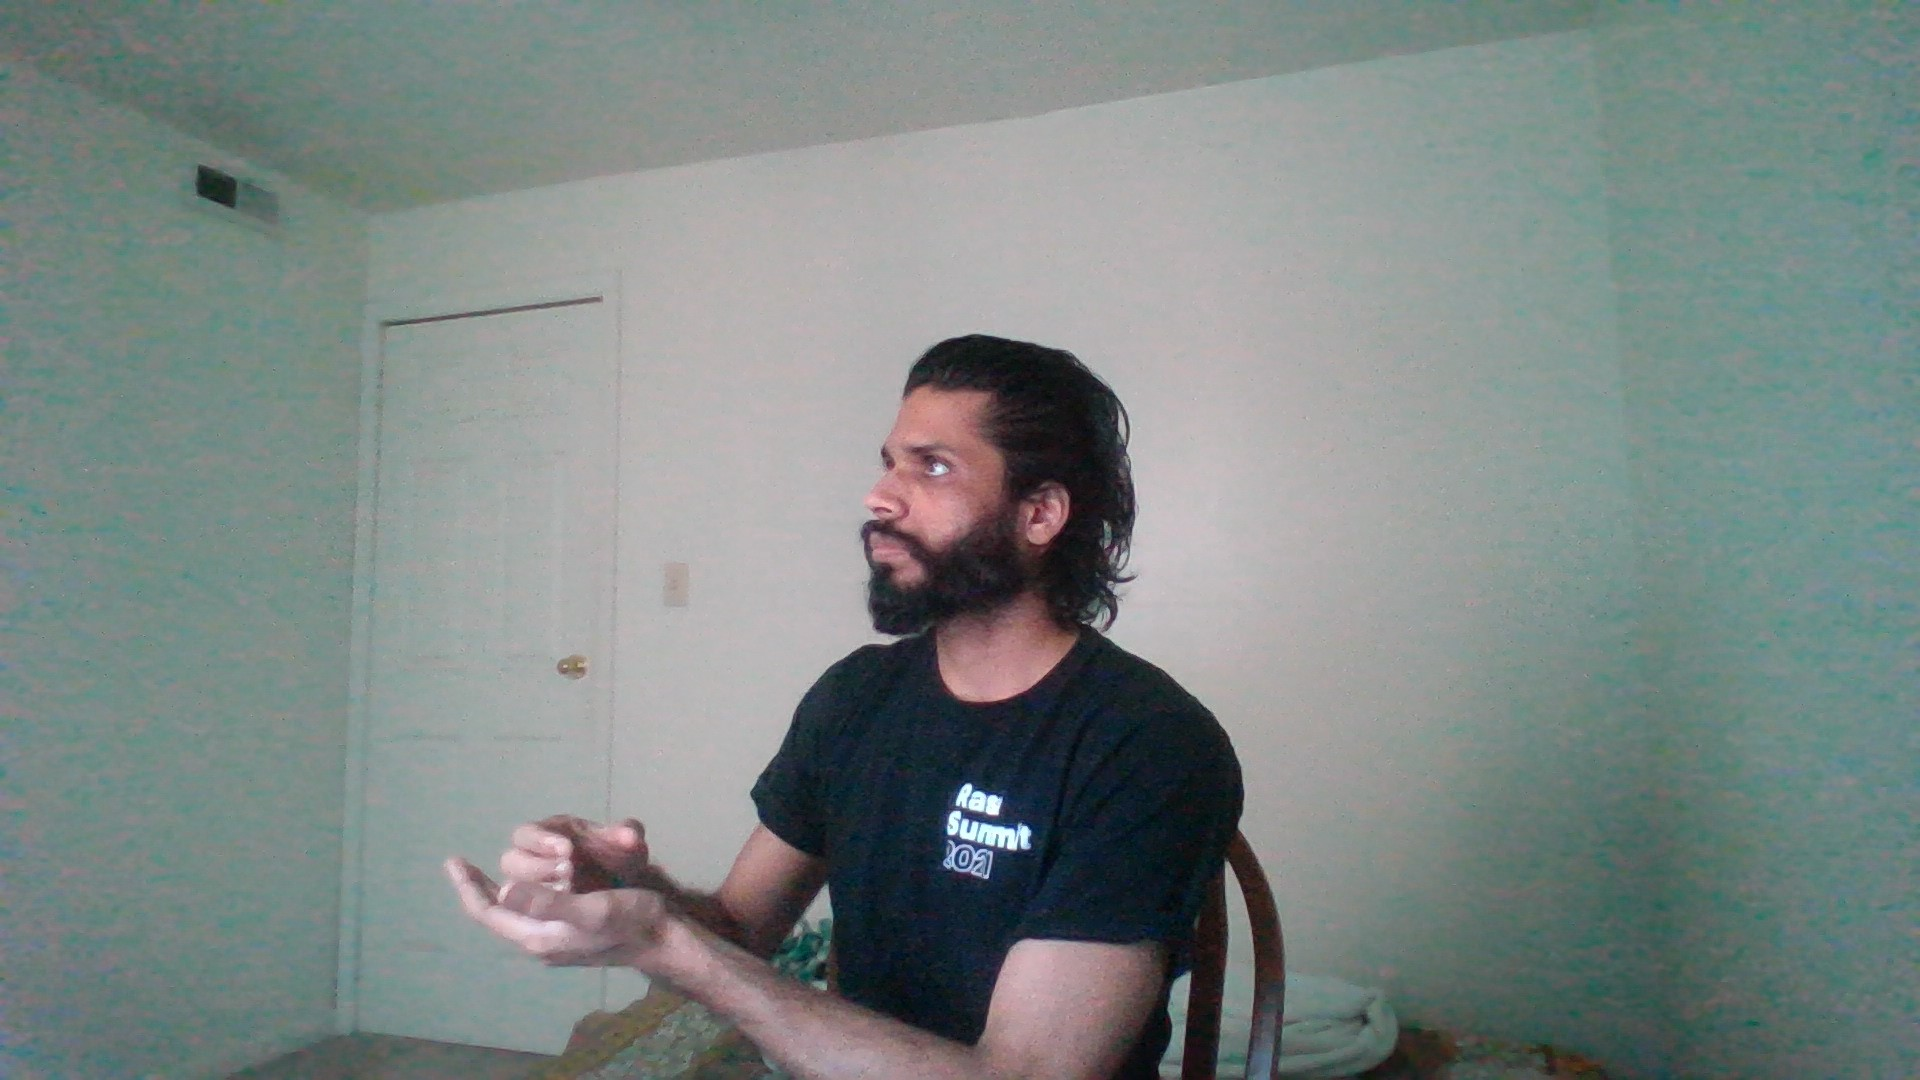Cup: (371, 767, 814, 1007)
